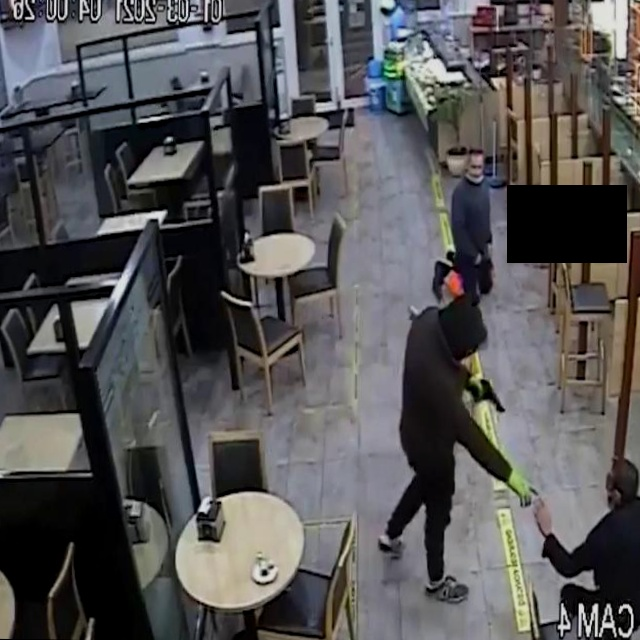gun: (462, 365, 515, 426)
